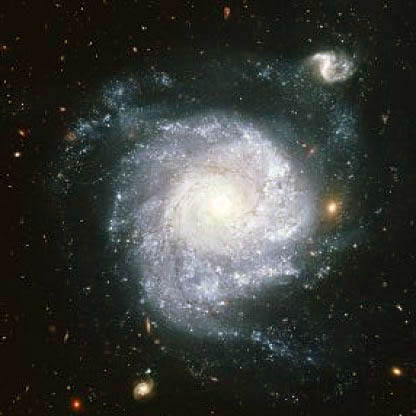NGC 1309: (63, 41, 368, 398)
